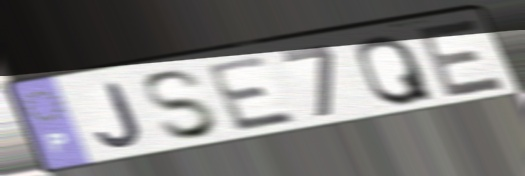7: (276, 40, 341, 122)
E: (201, 53, 303, 135), (414, 16, 510, 102)
J: (94, 80, 146, 150)
Q: (353, 32, 438, 108)
S: (139, 66, 224, 142)
